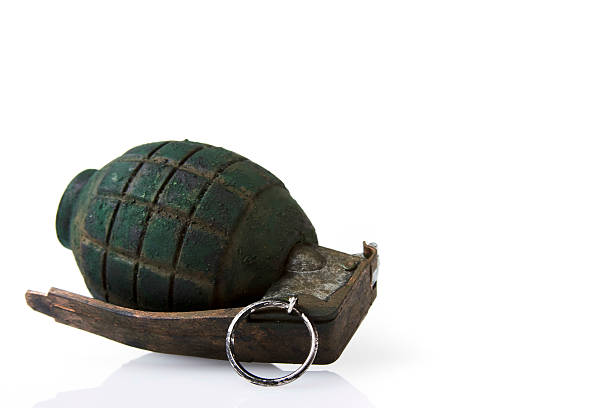e1: (23, 138, 380, 385)
